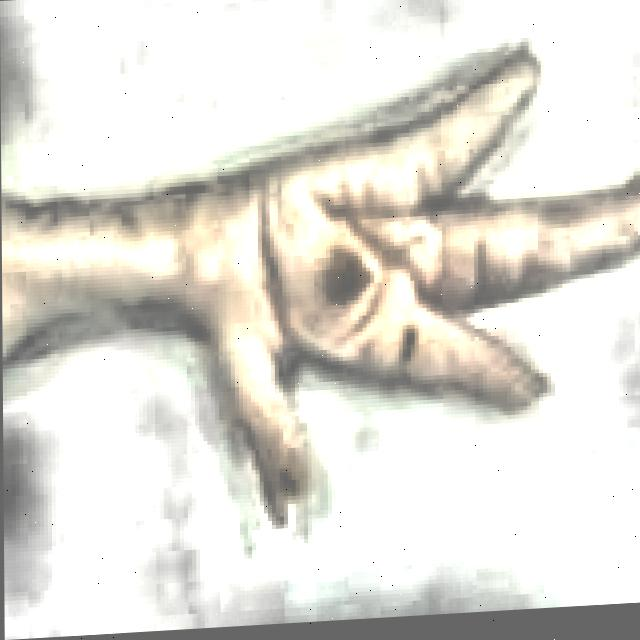Bumble foot: (0, 42, 640, 552)
